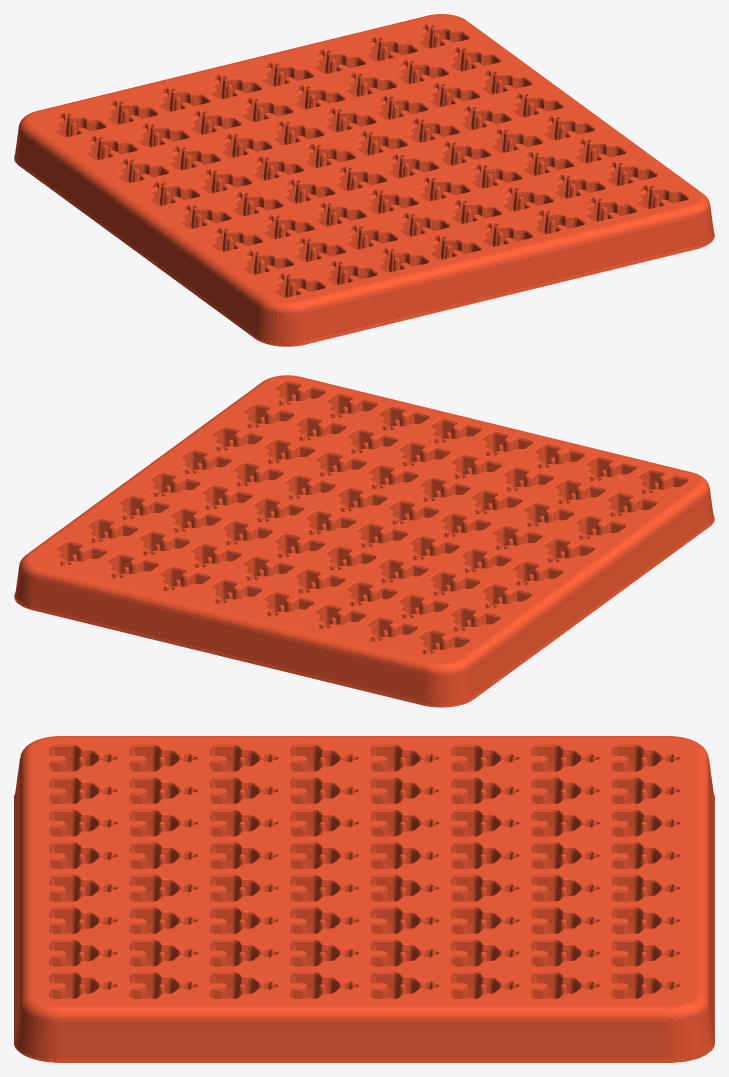
Rendered from mold.glb.
The picture shows the model from 3 angles, top to bottom: view 1: azimuth 30°, elevation 25°; view 2: azimuth 150°, elevation 25°; view 3: azimuth 270°, elevation 25°; orthographic projection. The views are drawn at different scales.
Parts seen in each view (by area): view 1: geometry_0; view 2: geometry_0; view 3: geometry_0.
Part boxes in pixels (box(x1,y1,x2,y2)): geometry_0: box(14, 14, 714, 346); geometry_0: box(14, 375, 714, 707); geometry_0: box(14, 736, 714, 1062).
Size of the model in its own units: 0.1301 by 0.0105 by 0.1355.
